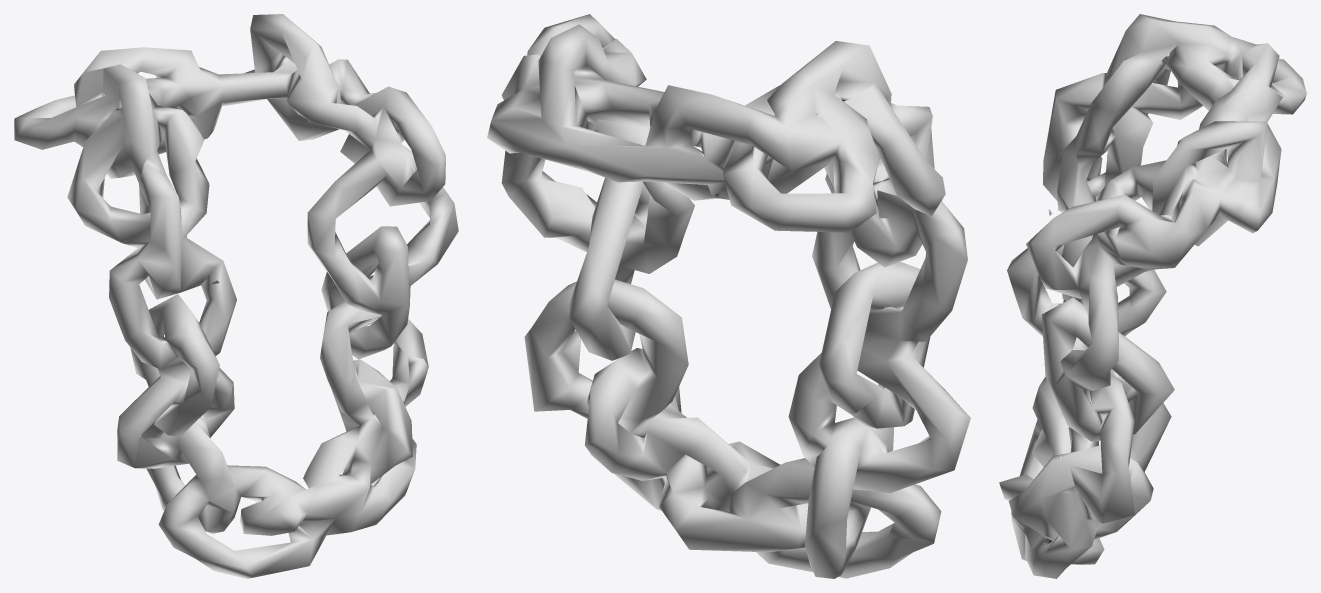
File: onchain.glb
The picture shows the model from 3 angles, left to right: view 1: azimuth 30°, elevation 25°; view 2: azimuth 150°, elevation 25°; view 3: azimuth 270°, elevation 25°; orthographic projection. The views are drawn at different scales.
Visible parts, largest first — view 1: chain_onchain.001; view 2: chain_onchain.001; view 3: chain_onchain.001.
Boxes of the visible parts, bbox=[...] form: chain_onchain.001: bbox=[14, 14, 458, 578]; chain_onchain.001: bbox=[487, 14, 970, 578]; chain_onchain.001: bbox=[999, 14, 1306, 578].
Size of the model in its own units: 0.1121 by 0.1383 by 0.0785.
Materials: 1 (1 with a texture image).
